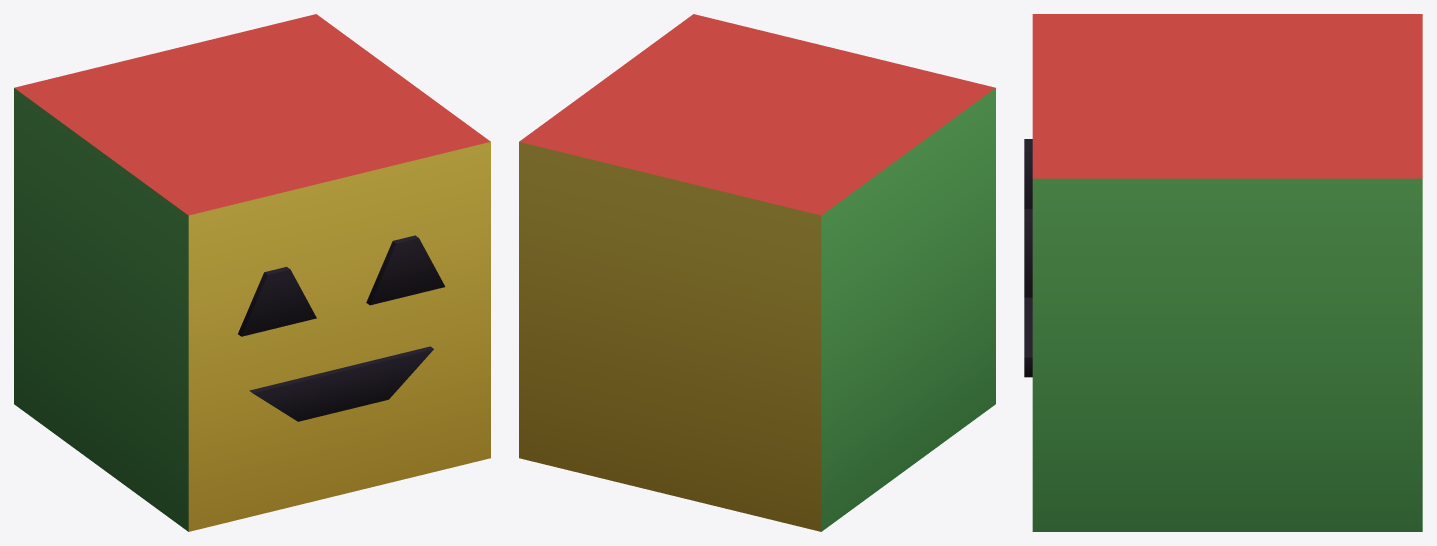
File: PlayGround_Kit_Toy_Block.fbx
3 renders of one model, left to right at view 1: azimuth 30°, elevation 25°; view 2: azimuth 150°, elevation 25°; view 3: azimuth 270°, elevation 25°, orthographic. The views are drawn at different scales.
Visible parts, largest first — view 1: PlayGround_Kit_Toy_Block; view 2: PlayGround_Kit_Toy_Block; view 3: PlayGround_Kit_Toy_Block.
Boxes of the visible parts, box(x1,y1,x2,y2) form: PlayGround_Kit_Toy_Block: box(14, 14, 490, 531); PlayGround_Kit_Toy_Block: box(519, 14, 995, 531); PlayGround_Kit_Toy_Block: box(1024, 14, 1422, 531).
Bounding box in the file's own units: 0.8 × 0.8 × 0.817.
